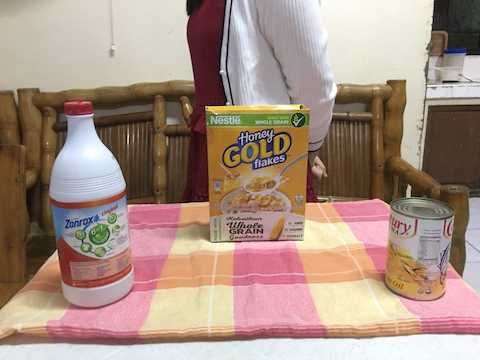bottle: (47, 97, 140, 311)
box: (201, 98, 316, 248)
can: (379, 195, 460, 302)
